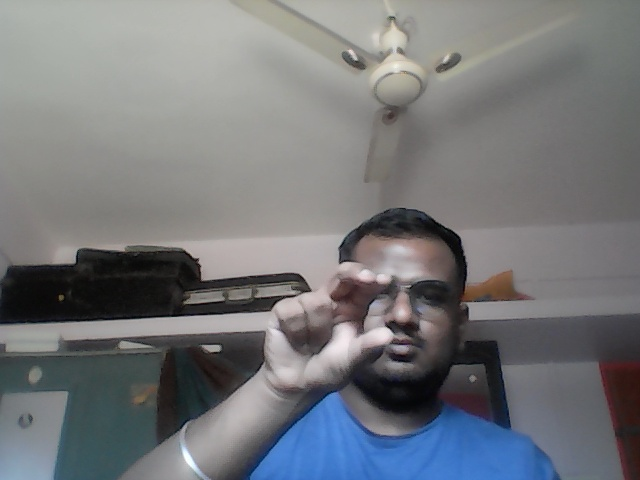No: (261, 260, 396, 400)
